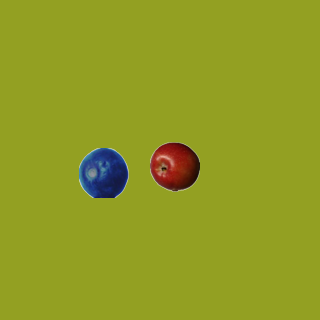Apple Braeburn: (149, 141, 199, 191)
Huckleberry: (78, 147, 128, 197)
